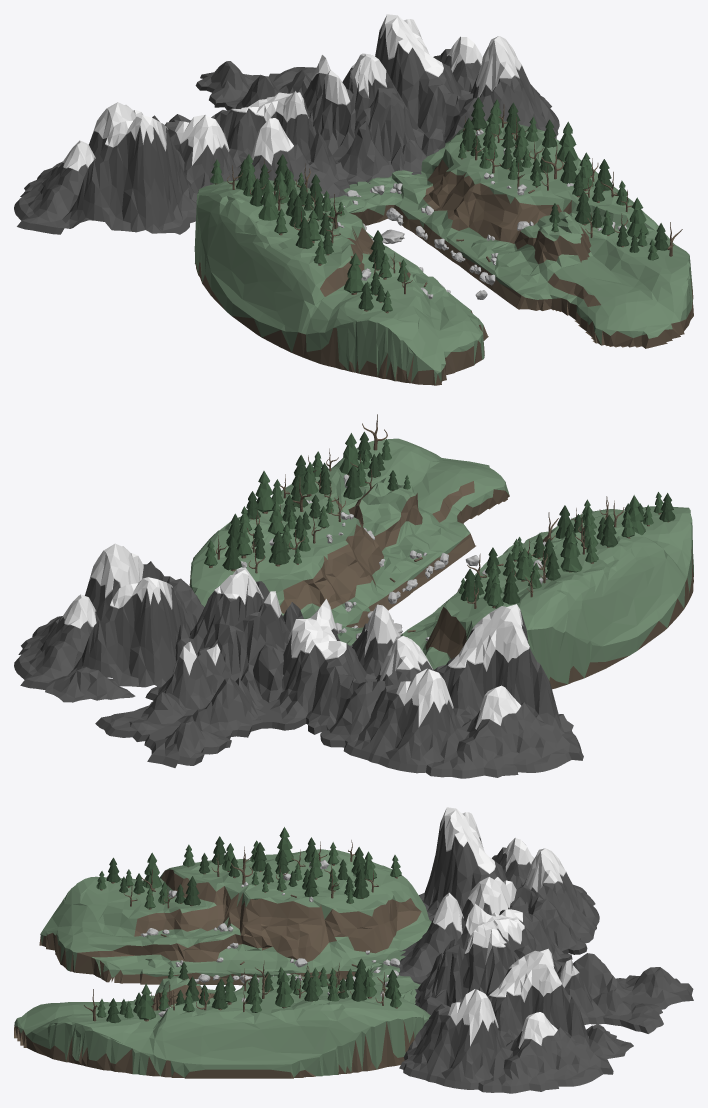
The model's file is Landscape.fbx.
3 views of the same model, one above another, from view 1: azimuth 30°, elevation 25°; view 2: azimuth 150°, elevation 25°; view 3: azimuth 270°, elevation 25° (orthographic). The views are drawn at different scales.
Visible parts, largest first — view 1: Landcape; view 2: Landcape; view 3: Landcape.
Part boxes in pixels (bbox=[...]): Landcape: bbox=[14, 14, 693, 385]; Landcape: bbox=[14, 414, 693, 778]; Landcape: bbox=[14, 807, 693, 1093].
Size of the model in its own units: 6529 by 1447 by 8094.
